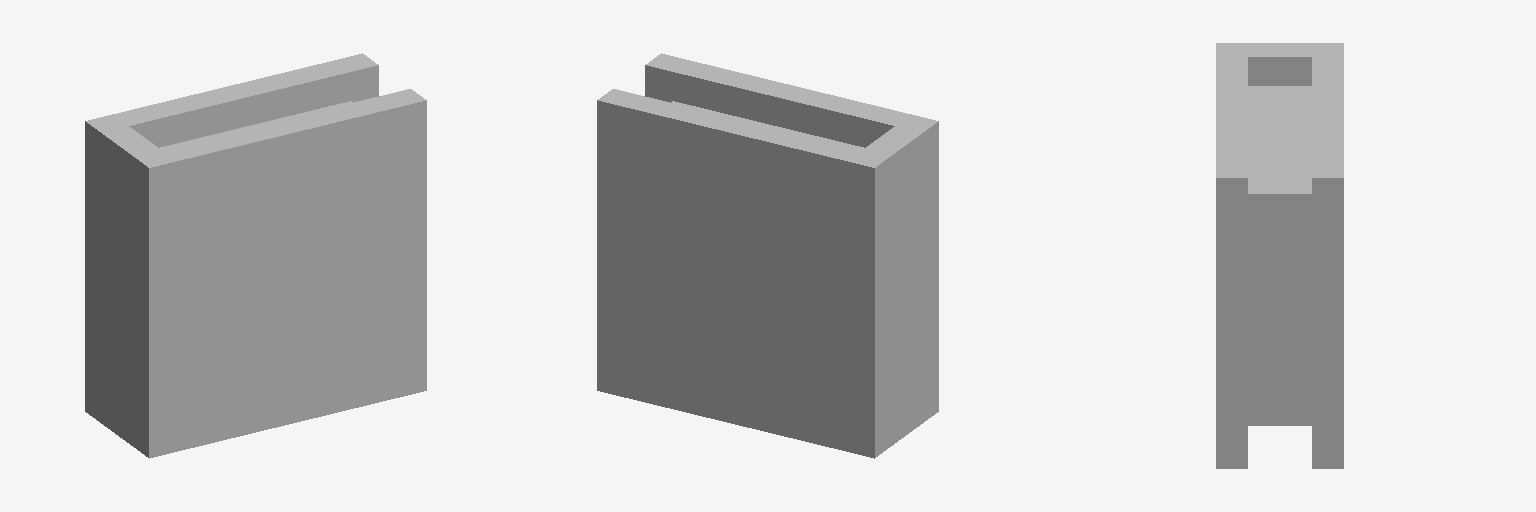
File: Book1.obj
3 renders of one model, left to right at view 1: azimuth 30°, elevation 25°; view 2: azimuth 150°, elevation 25°; view 3: azimuth 270°, elevation 25°, orthographic.
Visible parts, largest first — view 1: object 1; view 2: object 1; view 3: object 1.
Part boxes in pixels (x1,y1,x2,y2): object 1: (85, 53, 426, 458); object 1: (597, 53, 938, 458); object 1: (1216, 43, 1343, 468).
Bounding box in the file's own units: 1 × 1 × 0.4.